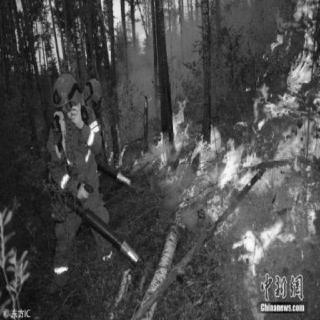Fire: (128, 3, 318, 276)
